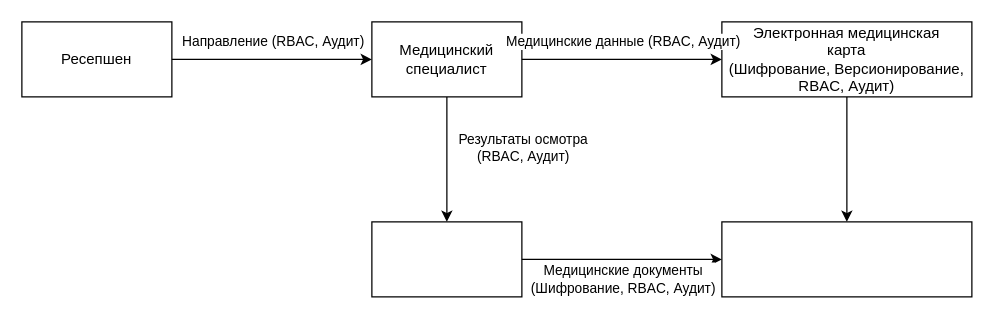
This 994x319 diagram has some shape labels left out. The shapes that lost their labels are listed below. From the top down, each one's centre as x and y in pixels, then its label:
the point at 446,259: Система управления документами (DMS)
the point at 846,259: Защищенное хранилище документов (Шифрование, RBAC, Аудит)
